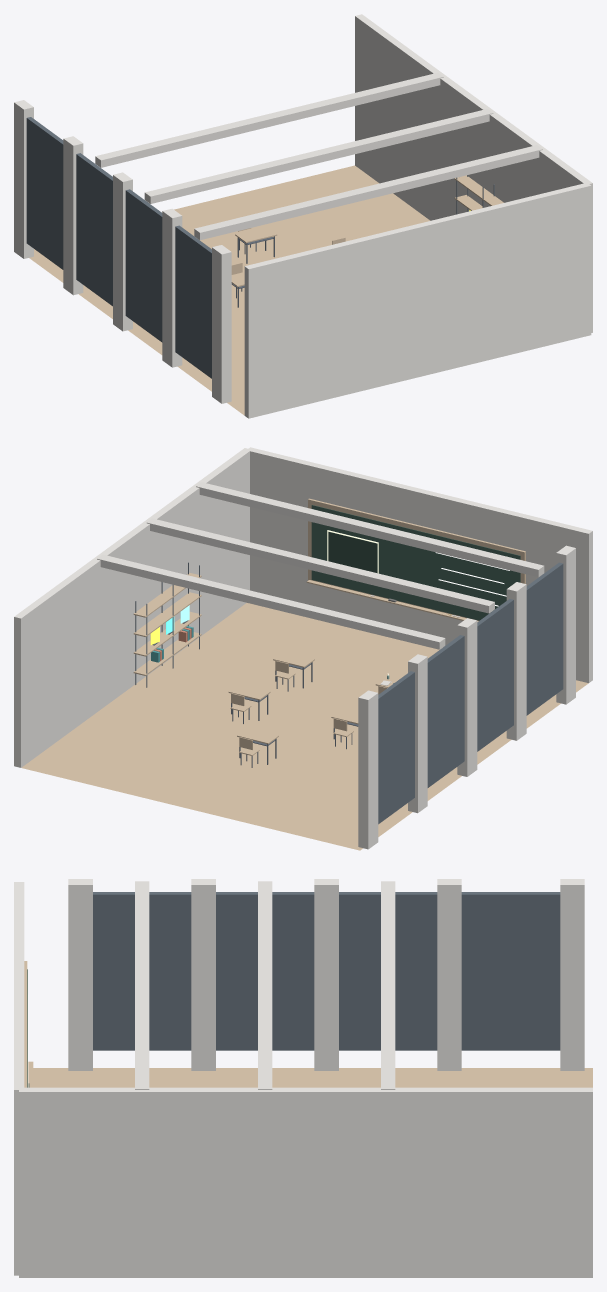
Rendered from classroom_school.glb.
The picture shows the model from 3 angles, top to bottom: view 1: azimuth 30°, elevation 25°; view 2: azimuth 150°, elevation 25°; view 3: azimuth 270°, elevation 25°; orthographic projection. The views are drawn at different scales.
Parts seen in each view (by area): view 1: Pared_Frontal_Tablero, Pared_Lateral_Derecha, Piso_Aula, Marco_Ventana_2, Marco_Ventana_4, Marco_Ventana_3, Marco_Ventana_1, Viga_Techo_-1.0, Viga_Techo_2.0, Viga_Techo_-4.0, Pilar_Ventanal_1, Pilar_Ventanal_2 (+3 smaller); view 2: Piso_Aula, Pared_Lateral_Derecha, Pared_Frontal_Tablero, Pizarra_Verde_Esmeralda, Marco_Ventana_1, Marco_Ventana_3, Marco_Ventana_4, Marco_Ventana_2, Viga_Techo_-4.0, Viga_Techo_2.0, Viga_Techo_-1.0, Pilar_Ventanal_5 (+11 smaller); view 3: Pared_Lateral_Derecha, Marco_Ventana_4, Marco_Ventana_1, Marco_Ventana_2, Marco_Ventana_3, Piso_Aula, Pilar_Ventanal_1, Pilar_Ventanal_2, Pilar_Ventanal_3, Pilar_Ventanal_4, Pilar_Ventanal_5, Pared_Frontal_Tablero (+3 smaller).
Part boxes in pixels (x1=…): Pared_Frontal_Tablero: x1=244, y1=182, x2=591, y2=418; Pared_Lateral_Derecha: x1=355, y1=14, x2=592, y2=332; Piso_Aula: x1=29, y1=165, x2=430, y2=415; Marco_Ventana_2: x1=125, y1=189, x2=162, y2=342; Marco_Ventana_4: x1=26, y1=117, x2=63, y2=269; Marco_Ventana_3: x1=76, y1=153, x2=112, y2=306; Marco_Ventana_1: x1=175, y1=225, x2=211, y2=378; Viga_Techo_-1.0: x1=144, y1=109, x2=493, y2=203; Viga_Techo_2.0: x1=95, y1=72, x2=443, y2=167; Viga_Techo_-4.0: x1=194, y1=145, x2=542, y2=240; Pilar_Ventanal_1: x1=212, y1=245, x2=231, y2=403; Pilar_Ventanal_2: x1=162, y1=208, x2=182, y2=367; Piso_Aula: x1=21, y1=603, x2=588, y2=850; Pared_Lateral_Derecha: x1=14, y1=448, x2=250, y2=767; Pared_Frontal_Tablero: x1=246, y1=447, x2=592, y2=683; Pizarra_Verde_Esmeralda: x1=311, y1=505, x2=520, y2=620; Marco_Ventana_1: x1=526, y1=562, x2=563, y2=715; Marco_Ventana_3: x1=427, y1=635, x2=464, y2=787; Marco_Ventana_4: x1=378, y1=671, x2=414, y2=824; Marco_Ventana_2: x1=477, y1=599, x2=513, y2=751; Viga_Techo_-4.0: x1=196, y1=482, x2=544, y2=577; Viga_Techo_2.0: x1=97, y1=554, x2=445, y2=649; Viga_Techo_-1.0: x1=146, y1=518, x2=494, y2=613; Pilar_Ventanal_5: x1=358, y1=690, x2=378, y2=849; Pared_Lateral_Derecha: x1=19, y1=1087, x2=592, y2=1277; Marco_Ventana_4: x1=461, y1=892, x2=560, y2=1050; Marco_Ventana_1: x1=93, y1=892, x2=191, y2=1050; Marco_Ventana_2: x1=216, y1=892, x2=314, y2=1050; Marco_Ventana_3: x1=339, y1=892, x2=437, y2=1050; Piso_Aula: x1=33, y1=1068, x2=592, y2=1087; Pilar_Ventanal_1: x1=68, y1=879, x2=92, y2=1070; Pilar_Ventanal_2: x1=191, y1=879, x2=215, y2=1070; Pilar_Ventanal_3: x1=314, y1=879, x2=338, y2=1070; Pilar_Ventanal_4: x1=437, y1=879, x2=461, y2=1070; Pilar_Ventanal_5: x1=560, y1=879, x2=584, y2=1070; Pared_Frontal_Tablero: x1=14, y1=882, x2=24, y2=1275.
Size of the model in its own units: 12.3 by 5.03 by 14.12.
